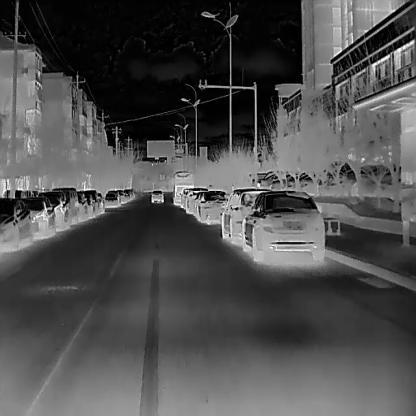car: (243, 189, 325, 267), (221, 186, 266, 244), (1, 195, 30, 253), (19, 197, 54, 237), (37, 188, 68, 228), (192, 189, 225, 224), (54, 188, 77, 228), (172, 170, 192, 206), (184, 185, 201, 214), (83, 188, 98, 217), (74, 191, 87, 220), (92, 189, 103, 215), (105, 188, 118, 208), (178, 188, 189, 206), (151, 189, 162, 203)
